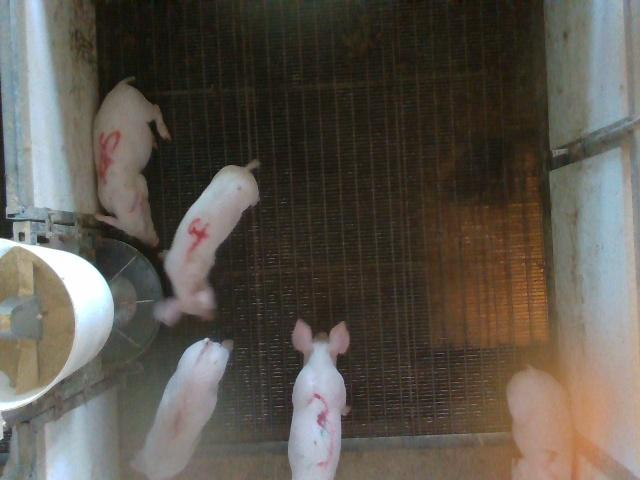pig-1: (130, 339, 232, 479)
pig-3: (288, 320, 350, 479)
pig-4: (164, 160, 259, 319)
pig-5: (94, 78, 171, 246)
